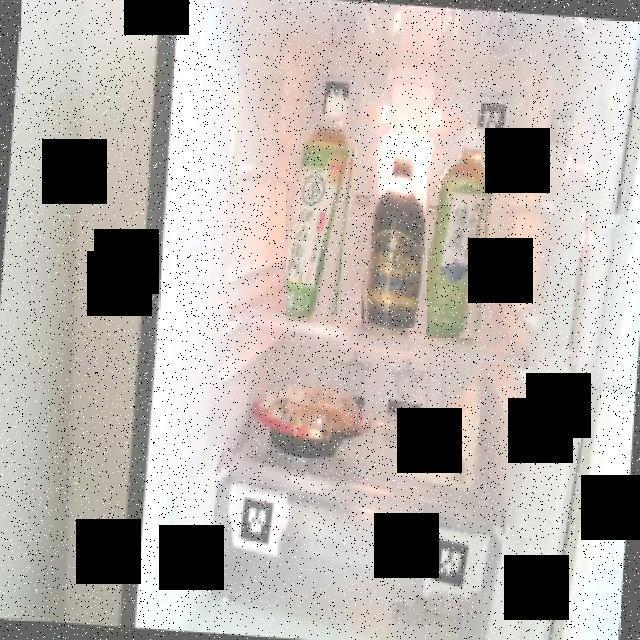bento: (248, 376, 372, 458)
bottle: (286, 108, 357, 323), (426, 133, 492, 338)
coffee: (358, 150, 427, 328)
sandwich: (394, 377, 480, 494)
